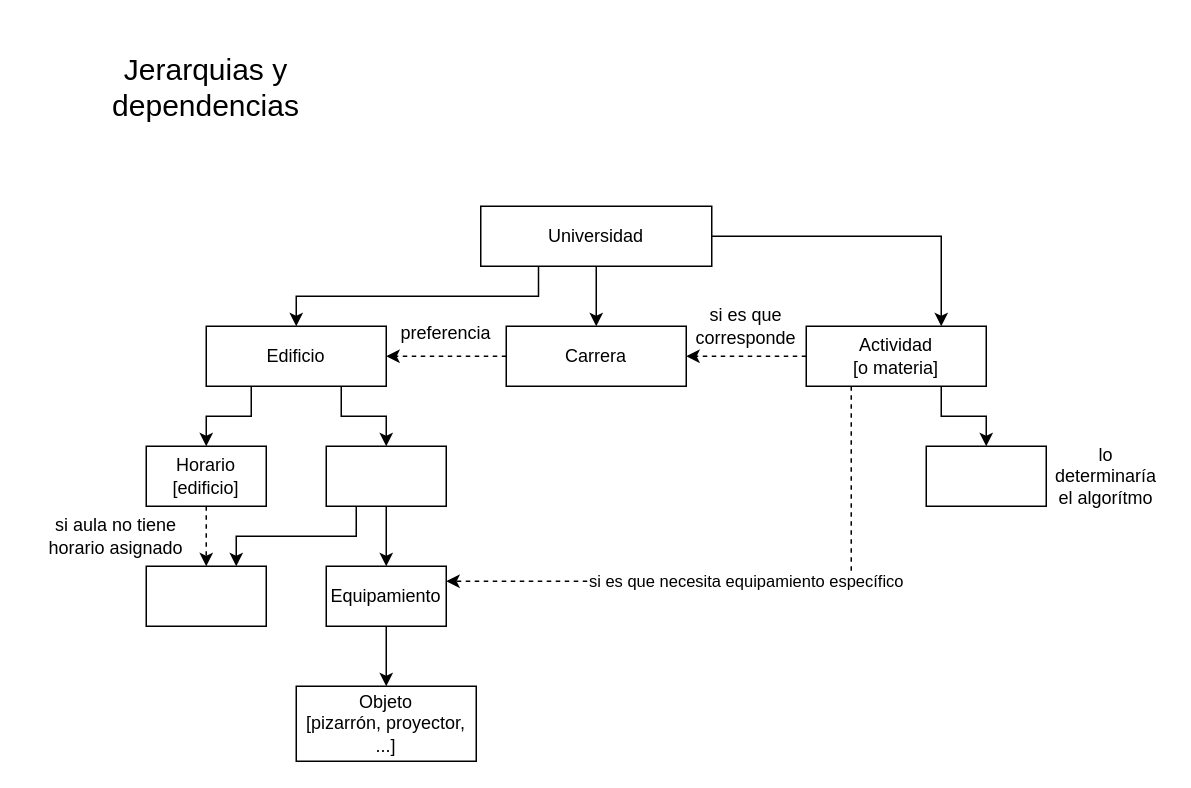
This 1191x788 diagram has some shape labels left out. The shapes that lost their labels are listed below. From the top down, each one's box as (x1, y1, x2, y2) in pixels, then its label:
(325, 445, 446, 506): Aula
(925, 445, 1046, 506): Horario [act./materia]
(145, 565, 266, 626): Horario [aula]
